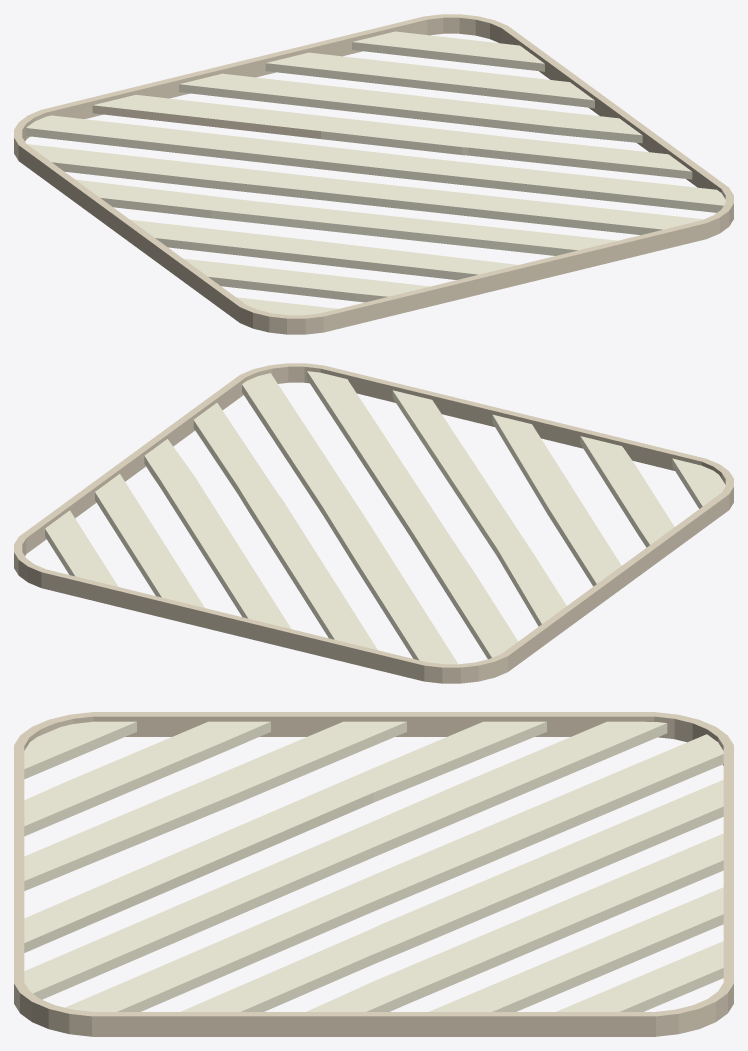
File: furnitureSelector2x2.gltf
3 views of the same model, one above another, from view 1: azimuth 30°, elevation 25°; view 2: azimuth 150°, elevation 25°; view 3: azimuth 270°, elevation 25° (orthographic). The views are drawn at different scales.
Parts seen in each view (by area): view 1: tube_selection; view 2: tube_selection; view 3: tube_selection.
Part boxes in pixels (x1,y1,x2,y2): tube_selection: [14, 14, 733, 334]; tube_selection: [14, 363, 733, 683]; tube_selection: [14, 712, 733, 1036].
Size of the model in its own units: 2 by 0.0625 by 2.
Materials: 1 (1 with a texture image).
